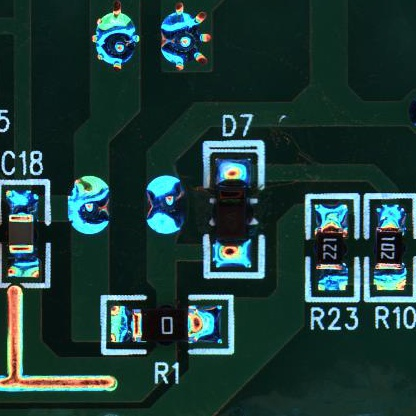spot: (158, 2, 214, 74), (90, 1, 142, 72), (143, 175, 187, 235), (69, 177, 114, 234)
